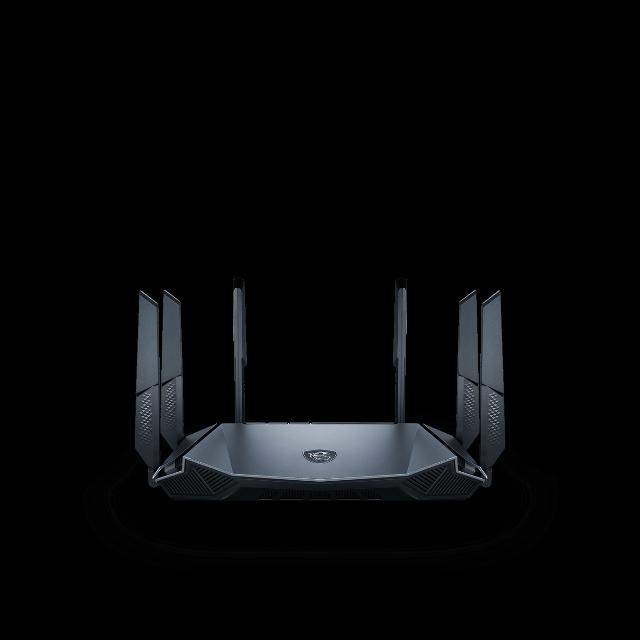Router: (131, 275, 504, 501)
